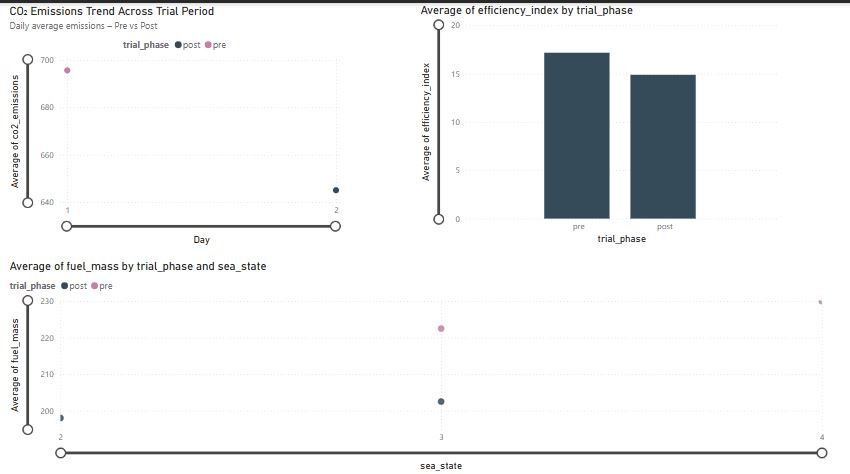

This screenshot's page, from the dashboard's own definition file:
{"tool":"powerbi","page":{"name":"Page 3","canvas":[1280,720],"ordinal":2},"visuals":[{"type":"lineChart","title":"CO₂ Emissions Trend Across Trial Period","fields":{"Category":["cleaned_data.timestamp.Variation.Date Hierarchy.Day"],"Y":["Avg(cleaned_data.co2_emissions)"],"Series":["cleaned_data.trial_phase"]},"box":[10.3,0,499.9,359.8],"z":0},{"type":"clusteredColumnChart","fields":{"Category":["performance_summary.trial_phase"],"Y":["Avg(performance_summary.efficiency_index)"]},"box":[614.9,0,533.8,359.8],"z":1000},{"type":"scatterChart","fields":{"X":["cleaned_data.sea_state"],"Y":["Avg(cleaned_data.fuel_mass)"],"Series":["cleaned_data.trial_phase"]},"box":[10.3,376,1207.7,317.1],"z":2000}]}

Visuals, with their boxes in screenshot pixels (x1, y1, x2, y2), scaled from the page's 1280x720 canvas onto the 850x474 screenshot:
"CO₂ Emissions Trend Across Trial Period" lineChart: rect(7, 0, 339, 237)
clusteredColumnChart - performance_summary.trial_phase x Avg(performance_summary.efficiency_index): rect(408, 0, 763, 237)
scatterChart - cleaned_data.sea_state x Avg(cleaned_data.fuel_mass): rect(7, 248, 809, 456)
